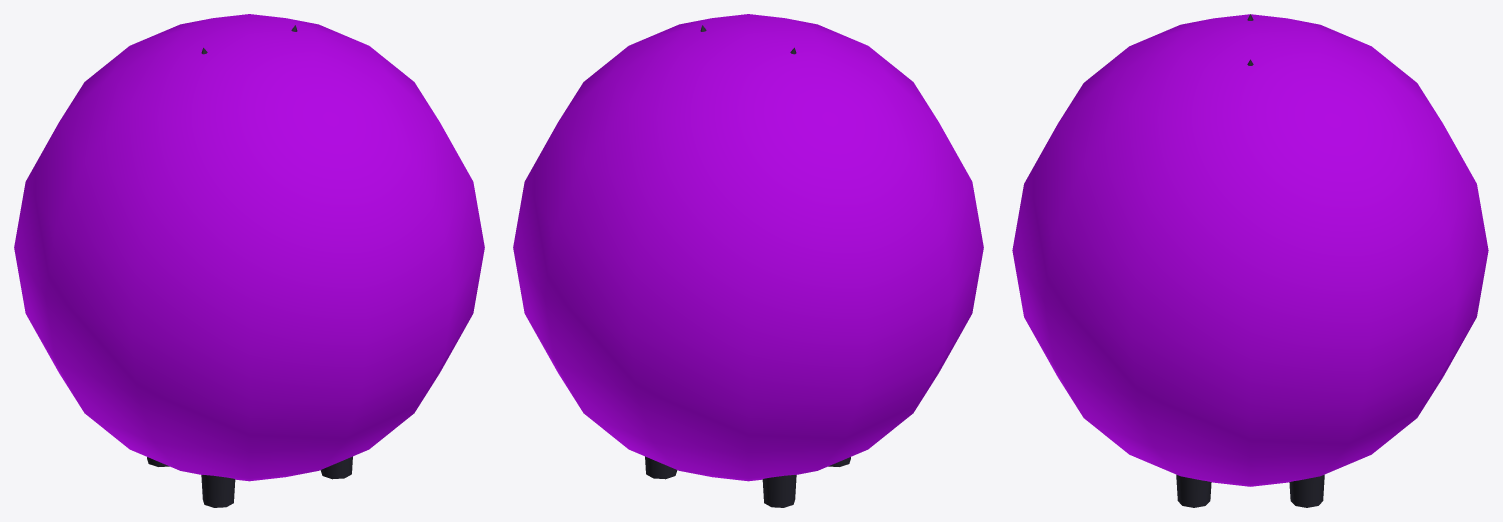
Rendered from voidcat.glb.
The picture shows the model from 3 angles, left to right: view 1: azimuth 30°, elevation 25°; view 2: azimuth 150°, elevation 25°; view 3: azimuth 270°, elevation 25°; orthographic projection.
Parts seen in each view (by area): view 1: aura, leg--0.55-0.45; view 2: aura, leg--0.55--0.45; view 3: aura, leg-0.55-0.45, leg-0.55--0.45.
Part boxes in pixels (x1,y1,x2,y2): aura: (14,14,484,481); leg--0.55-0.45: (201,475,235,507); aura: (513,14,983,481); leg--0.55--0.45: (762,475,796,507); aura: (1012,14,1488,486); leg-0.55-0.45: (1176,474,1211,507); leg-0.55--0.45: (1289,474,1324,507).
Size of the model in its own units: 3.8 by 3.85 by 3.8.
